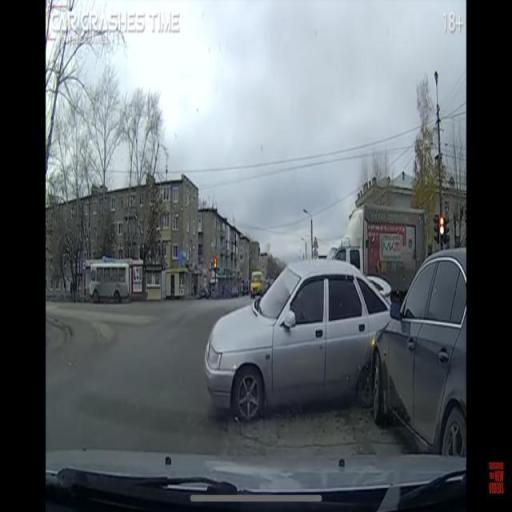小汽车: (83, 251, 134, 305)
小汽车撞小汽车: (213, 242, 467, 446)
